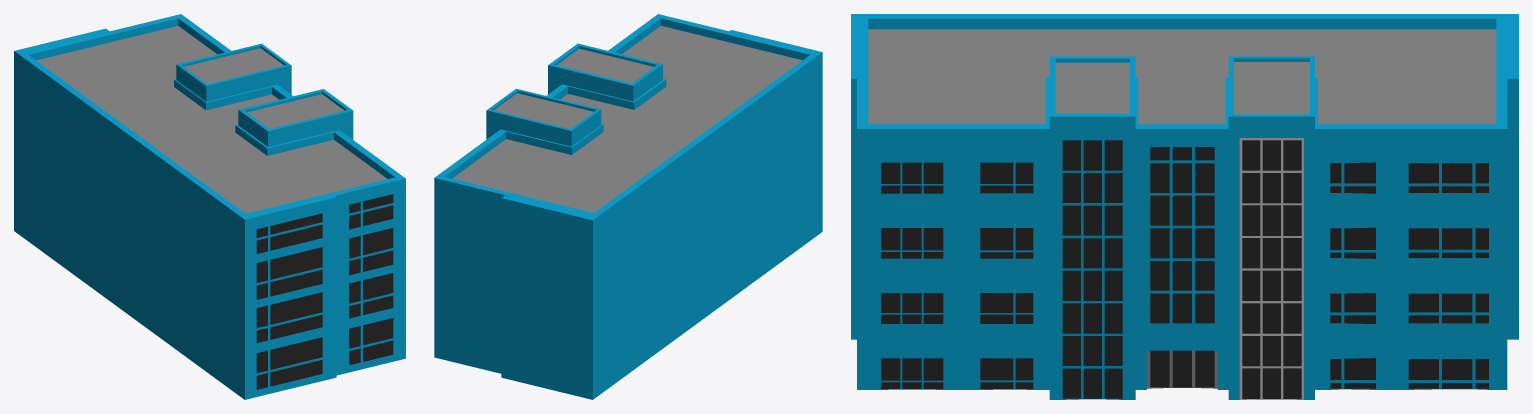
Rendered from apt-13.glb.
3 views of the same model, side by side, from view 1: azimuth 30°, elevation 25°; view 2: azimuth 150°, elevation 25°; view 3: azimuth 270°, elevation 25° (orthographic). The views are drawn at different scales.
Size of the model in its own units: 1.55 by 1.64 by 3.5.
